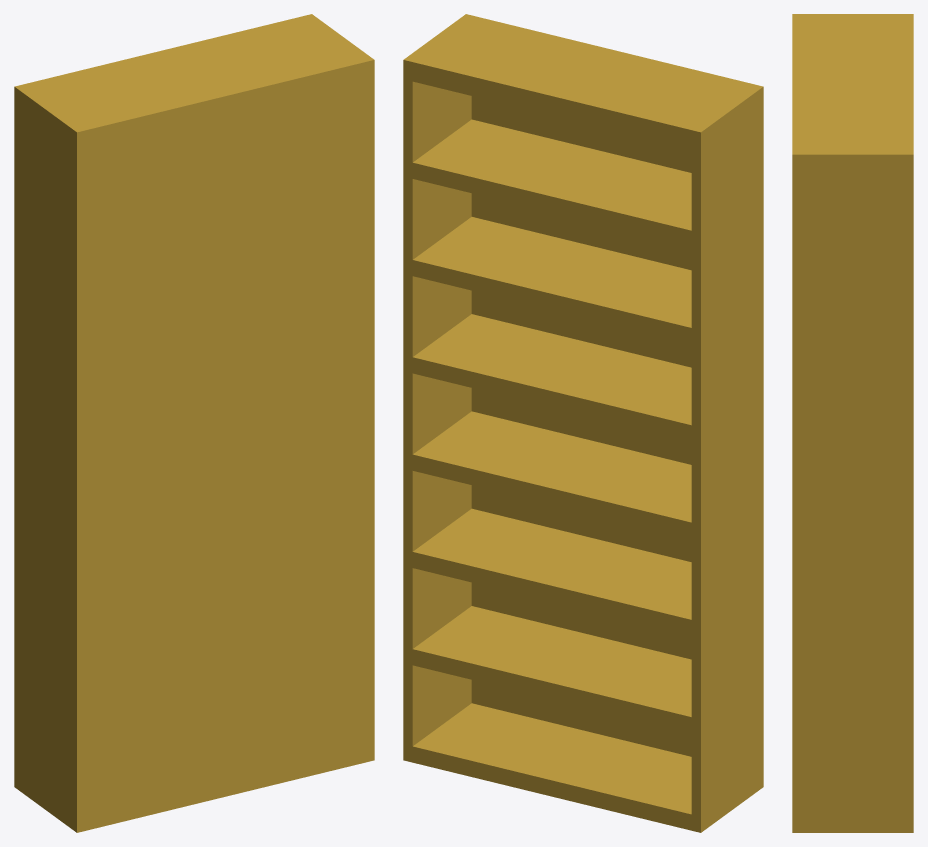
The model's file is shelfBooks.fbx.
The picture shows the model from 3 angles, left to right: view 1: azimuth 30°, elevation 25°; view 2: azimuth 150°, elevation 25°; view 3: azimuth 270°, elevation 25°; orthographic projection. The views are drawn at different scales.
Parts seen in each view (by area): view 1: shelfBooks; view 2: shelfBooks; view 3: shelfBooks.
Part boxes in pixels (left/top/right/bottom): shelfBooks: left=14, top=14, right=374, bottom=832; shelfBooks: left=403, top=14, right=763, bottom=832; shelfBooks: left=792, top=14, right=913, bottom=832.
Bounding box in the file's own units: 96 × 216 × 35.
